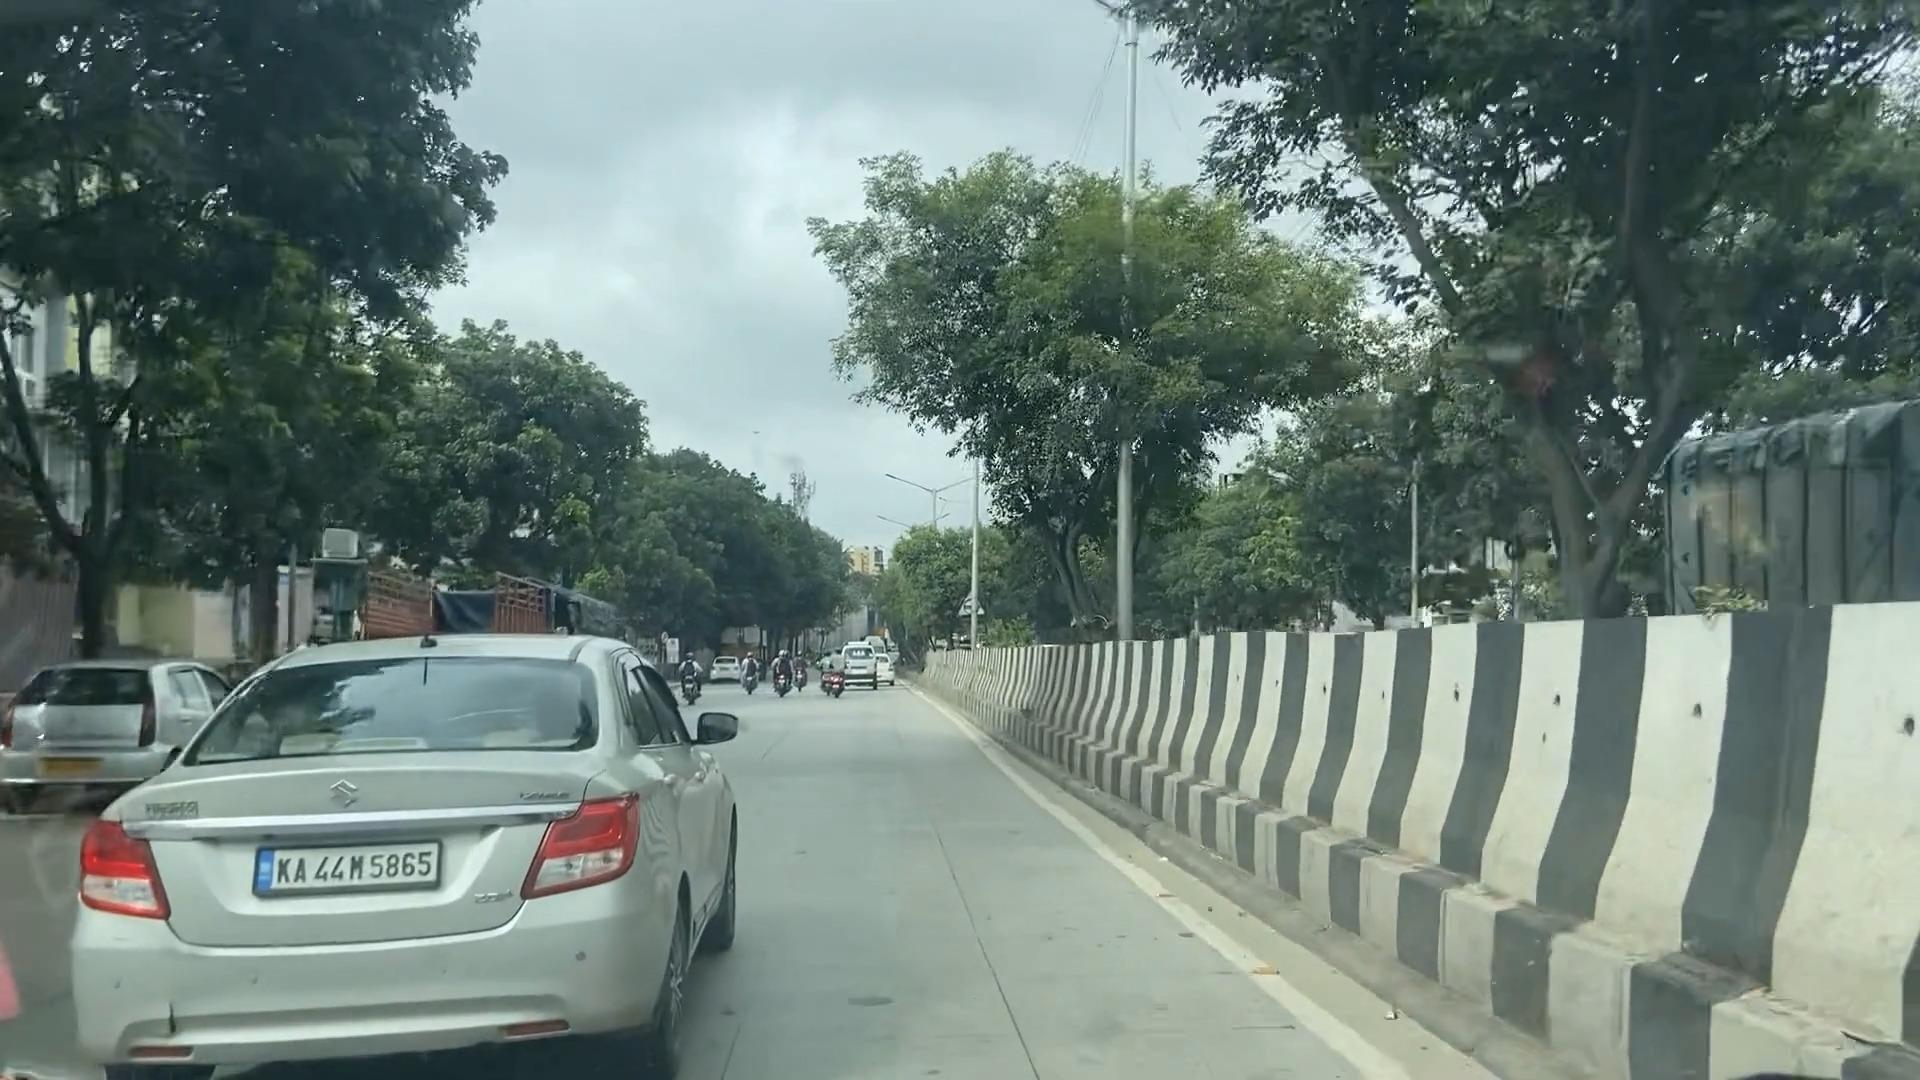LMV: (95, 608, 753, 1080)
